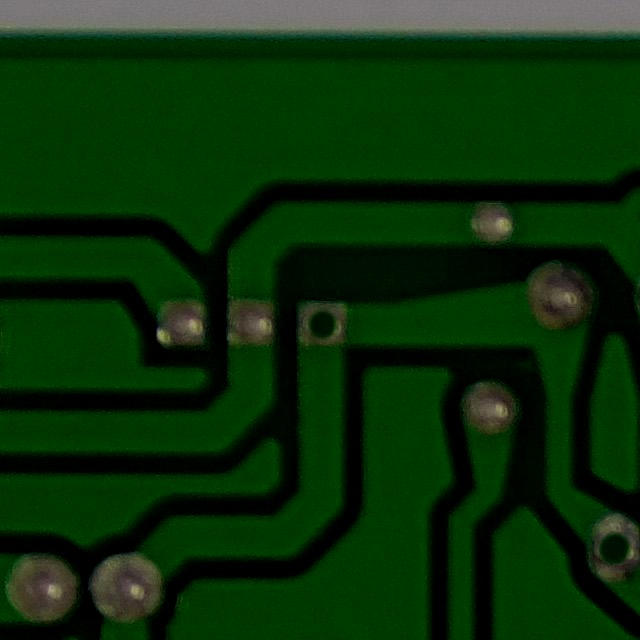missing_hole: (287, 286, 354, 355)
